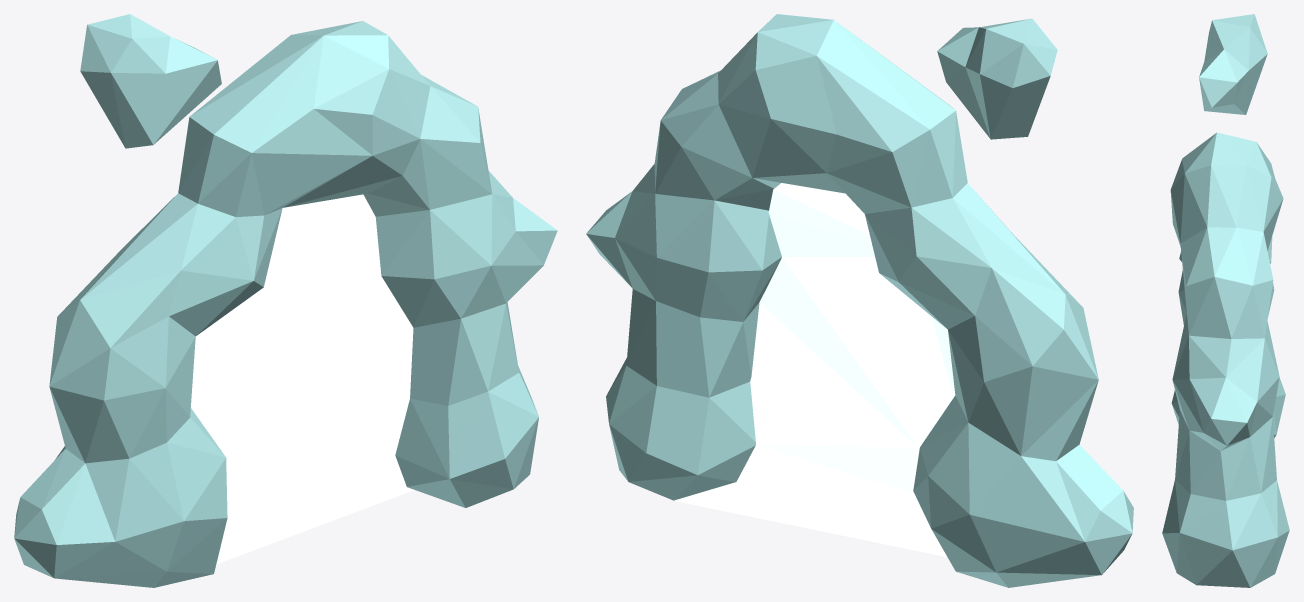
File: Portal_Heaven_Emission.glb
3 views of the same model, side by side, from view 1: azimuth 30°, elevation 25°; view 2: azimuth 150°, elevation 25°; view 3: azimuth 270°, elevation 25° (orthographic). The views are drawn at different scales.
Parts seen in each view (by area): view 1: Heaven_portal; view 2: Heaven_portal; view 3: Heaven_portal.
Boxes of the visible parts, left/top/right/bottom form: Heaven_portal: left=14, top=14, right=557, bottom=587; Heaven_portal: left=586, top=14, right=1133, bottom=587; Heaven_portal: left=1162, top=14, right=1289, bottom=587.
Size of the model in its own units: 2.19 by 2.18 by 0.5707.
